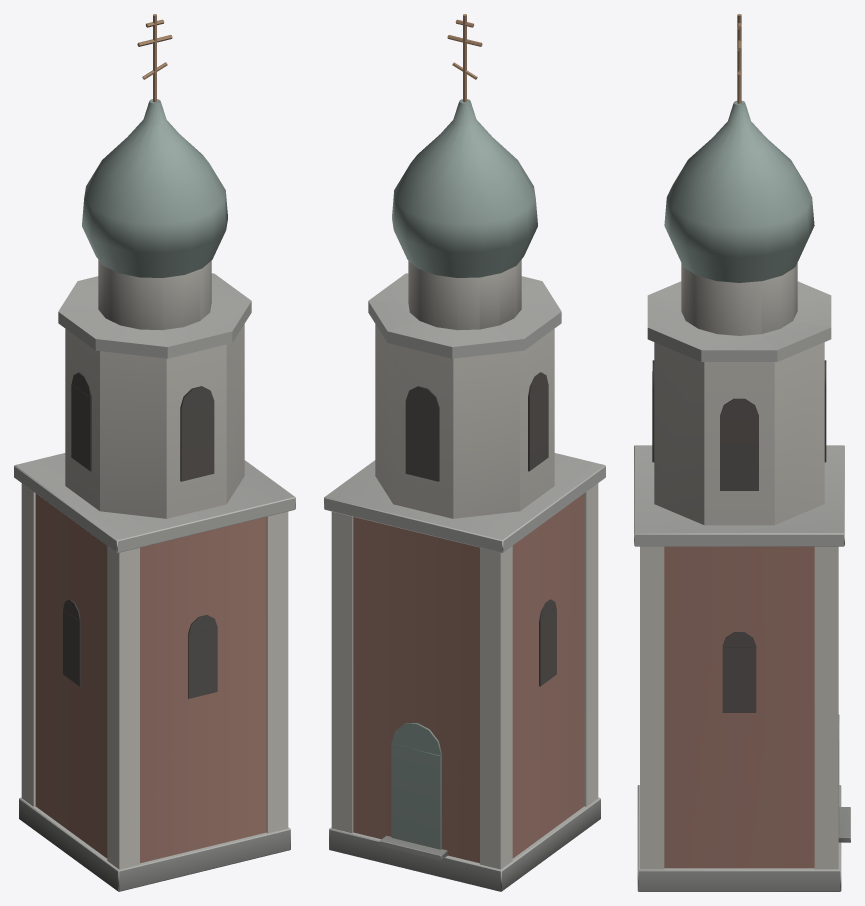
The model's file is steeple.glb.
3 views of the same model, side by side, from view 1: azimuth 30°, elevation 25°; view 2: azimuth 150°, elevation 25°; view 3: azimuth 270°, elevation 25° (orthographic).
Parts seen in each view (by area): view 1: static; view 2: static; view 3: static.
Boxes of the visible parts, x1,y1,x2,y2 form: static: [14, 14, 295, 891]; static: [324, 14, 605, 891]; static: [634, 14, 850, 891].
Bounding box in the file's own units: 4.35 × 19 × 4.47.
